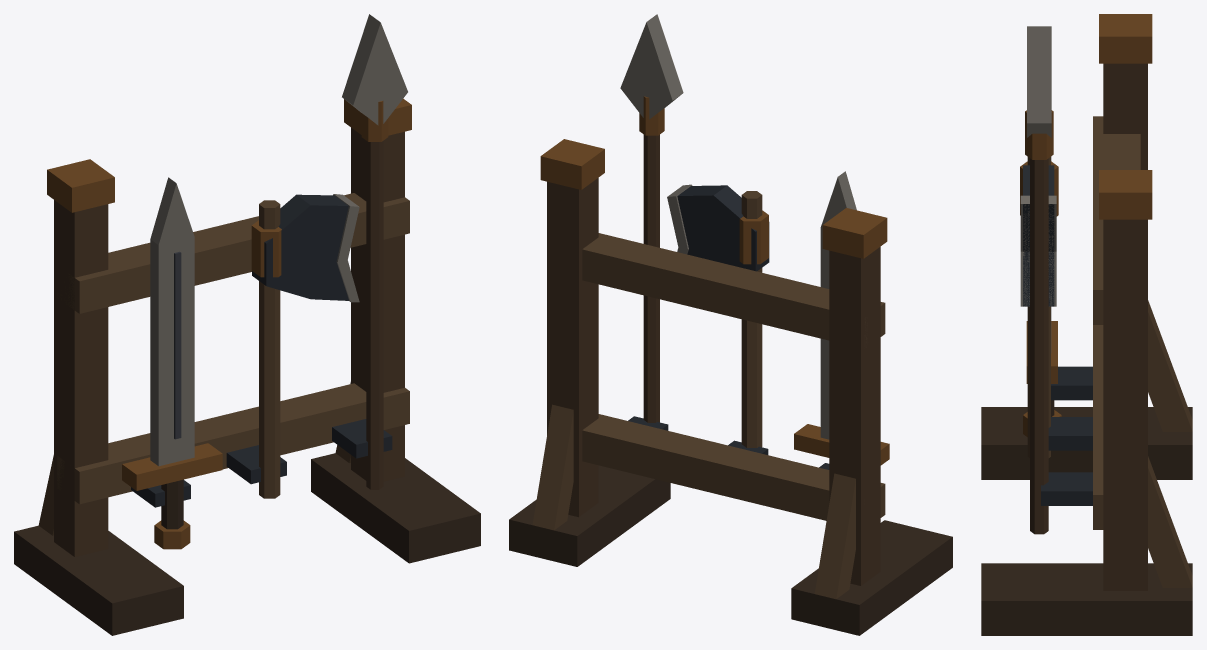
The model's file is Weapon_Rack.glb.
The picture shows the model from 3 angles, left to right: view 1: azimuth 30°, elevation 25°; view 2: azimuth 150°, elevation 25°; view 3: azimuth 270°, elevation 25°; orthographic projection. The views are drawn at different scales.
Parts seen in each view (by area): view 1: Weapon_Rack; view 2: Weapon_Rack; view 3: Weapon_Rack.
Part boxes in pixels (left/top/right/bottom): Weapon_Rack: left=14, top=14, right=480, bottom=635; Weapon_Rack: left=509, top=14, right=952, bottom=635; Weapon_Rack: left=981, top=14, right=1192, bottom=635.
Size of the model in its own units: 1.54 by 2.11 by 0.71.
